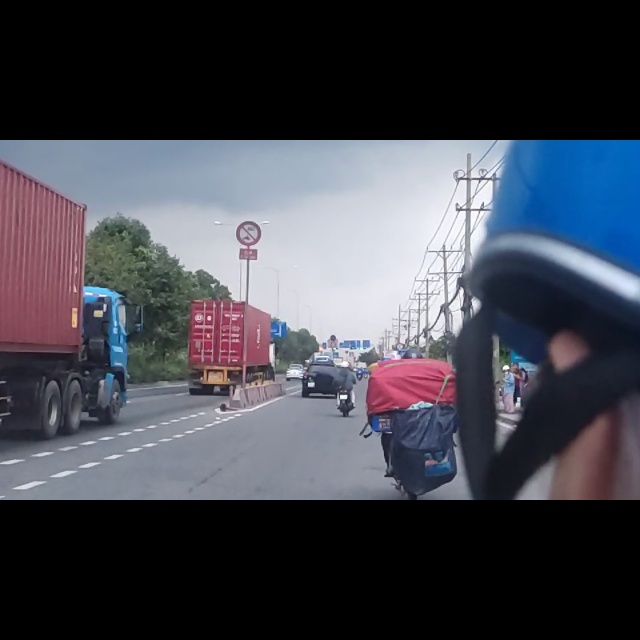bien_cam: (237, 143, 262, 188)
